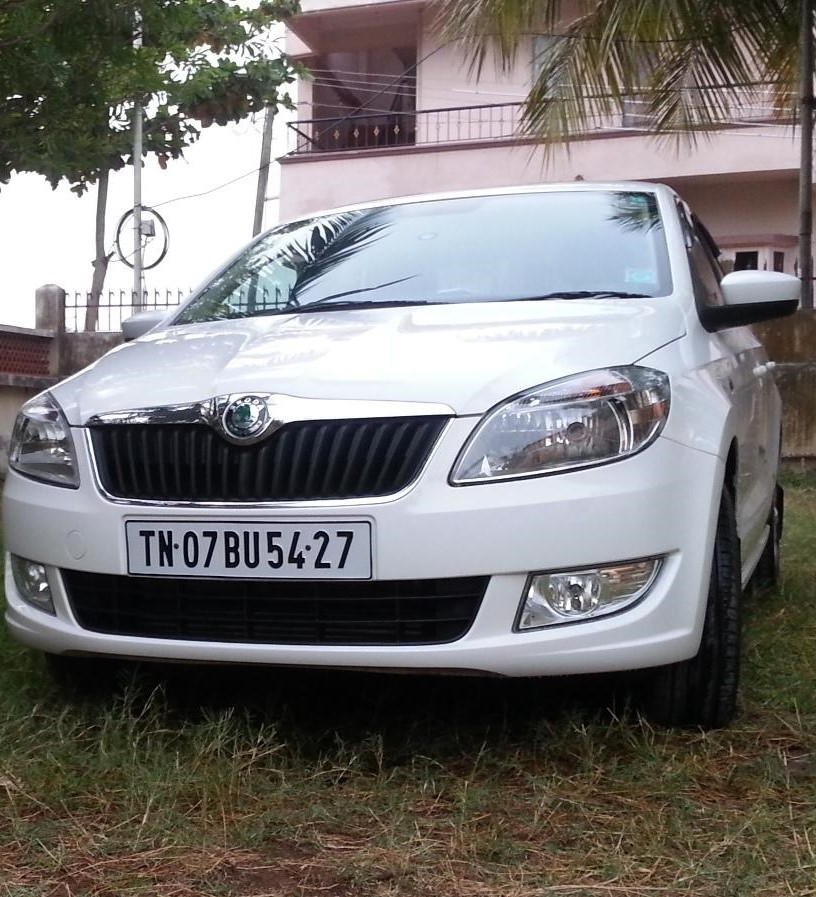TN07BU5427: (123, 518, 373, 578)
